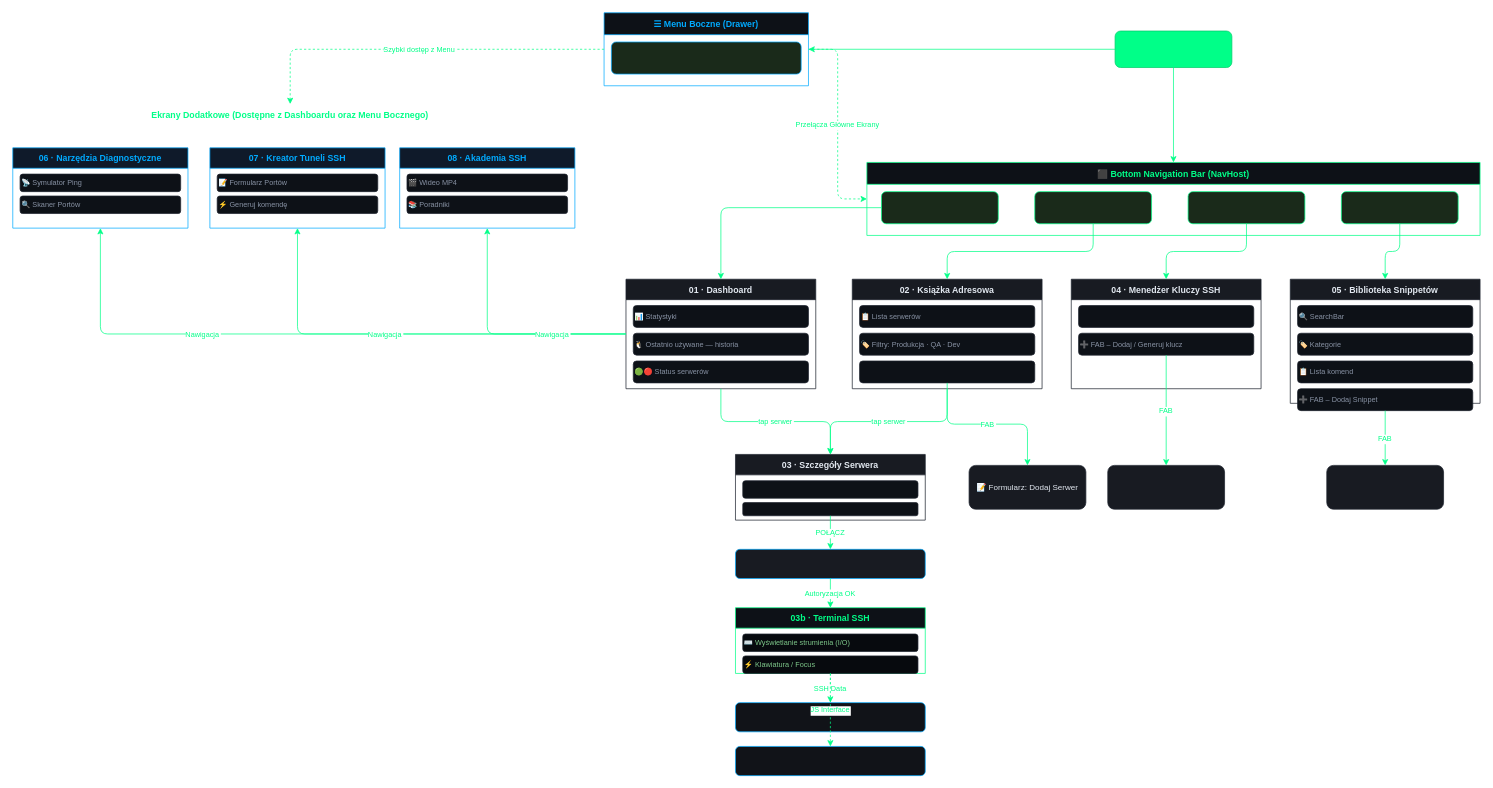
This 1493x788 diagram has some shape labels left out. Each missing label, with the centre of its shape:
"Home · Serwery · Klucze · Snippety Diagnostyka · Tunel · Akademia" goes at pixel 706 57.
"⚙️ JSch (SSH Client)" goes at pixel 830 717.
"➕ FAB – Dodaj serwer" goes at pixel 947 371.
"🌐 terminal.html (xterm.js)" goes at pixel 830 761.
"🏠 Dashboard" goes at pixel 939 207.
"📋 Lista kluczy" goes at pixel 1166 316.
"📜 Snippety" goes at pixel 1399 207.
"📝 Formularz: Dodaj Snippet" goes at pixel 1385 487.
"🔌 Przycisk POŁĄCZ" goes at pixel 830 509.
"🔐 Dialog Uwierzytelniania" goes at pixel 830 564.
"🔑 Generuj / Import Klucza" goes at pixel 1166 487.
"🔑 Klucze SSH" goes at pixel 1246 207.
"🖥️ Serwery" goes at pixel 1093 207.
"🗂️ Karta: IP · port · user · env" goes at pixel 830 489.
"🚀 App Launch" goes at pixel 1173 49.
